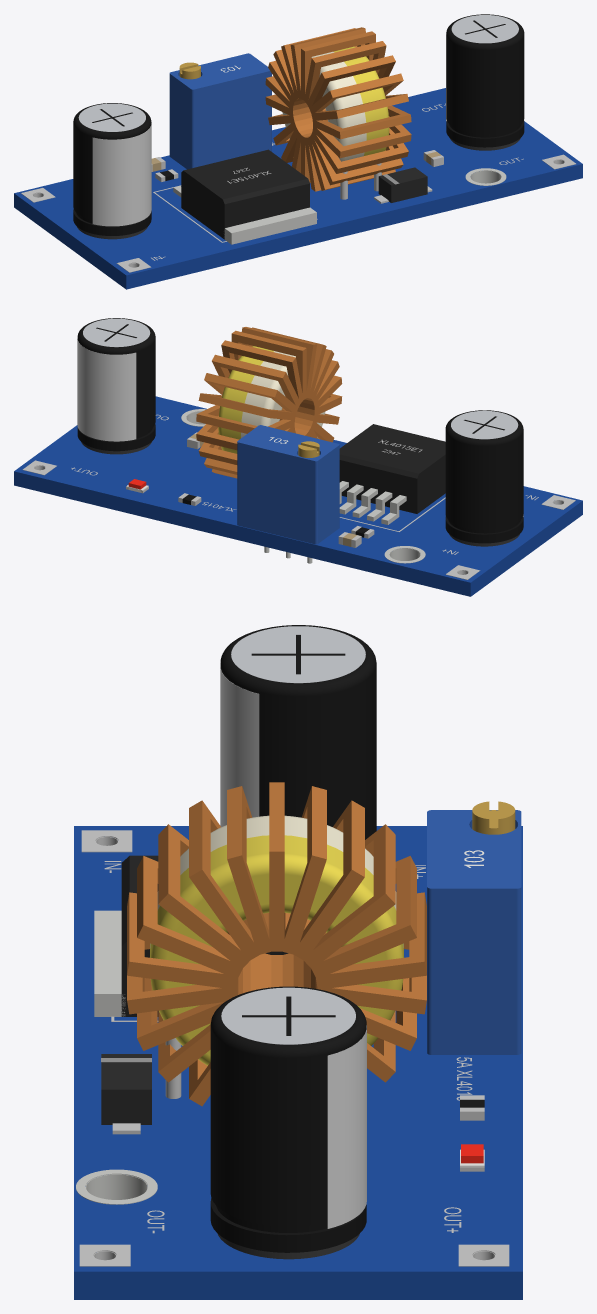
Rendered from xl4015-module.glb.
The picture shows the model from 3 angles, top to bottom: view 1: azimuth 30°, elevation 25°; view 2: azimuth 150°, elevation 25°; view 3: azimuth 270°, elevation 25°; orthographic projection. The views are drawn at different scales.
Parts seen in each view (by area): view 1: pcb, trim_vadj_body, sleeve_1, body, stripe, sleeve, tab, core_bottom, top, top_1, body_1, part_o1_9_3_13 (+19 smaller); view 2: pcb, trim_vadj_body, sleeve, body, stripe_1, sleeve_1, top_1, top, core_bottom, part_o1_9_3_11, part_o1_9_3_10, core_top (+14 smaller); view 3: pcb, sleeve_1, trim_vadj_body, sleeve, core_top, stripe_1, top_1, top, stripe, part_o1_9_3_15, part_o1_9_3_9, part_o1_9_3_14 (+27 smaller).
Part boxes in pixels (x1,y1,x2,y2): pcb: [14, 88, 582, 289]; trim_vadj_body: [169, 53, 271, 169]; sleeve_1: [446, 14, 524, 147]; body: [181, 149, 309, 239]; stripe: [92, 123, 151, 226]; sleeve: [73, 103, 151, 235]; tab: [224, 207, 316, 244]; core_bottom: [282, 51, 366, 161]; top: [78, 103, 145, 131]; top_1: [451, 15, 518, 43]; body_1: [378, 167, 427, 202]; part_o1_9_3_13: [305, 41, 386, 104]; pcb: [14, 396, 582, 596]; trim_vadj_body: [237, 425, 339, 544]; sleeve: [445, 410, 523, 543]; body: [339, 424, 445, 513]; stripe_1: [77, 338, 136, 441]; sleeve_1: [77, 318, 155, 451]; top_1: [83, 318, 150, 347]; top: [451, 410, 518, 439]; core_bottom: [241, 351, 325, 437]; part_o1_9_3_11: [221, 340, 303, 403]; part_o1_9_3_10: [212, 354, 299, 407]; core_top: [218, 346, 273, 453]; pcb: [74, 826, 522, 1299]; sleeve_1: [210, 986, 366, 1252]; trim_vadj_body: [427, 810, 521, 1054]; sleeve: [220, 625, 376, 839]; core_top: [150, 835, 403, 1065]; stripe_1: [327, 1025, 366, 1228]; top_1: [221, 987, 355, 1044]; top: [231, 626, 365, 683]; stripe: [220, 663, 259, 826]; part_o1_9_3_15: [158, 824, 250, 969]; part_o1_9_3_9: [302, 824, 395, 968]; part_o1_9_3_14: [189, 800, 259, 960].
Bounding box in the file's own units: 0.054 × 0.0185 × 0.023.
